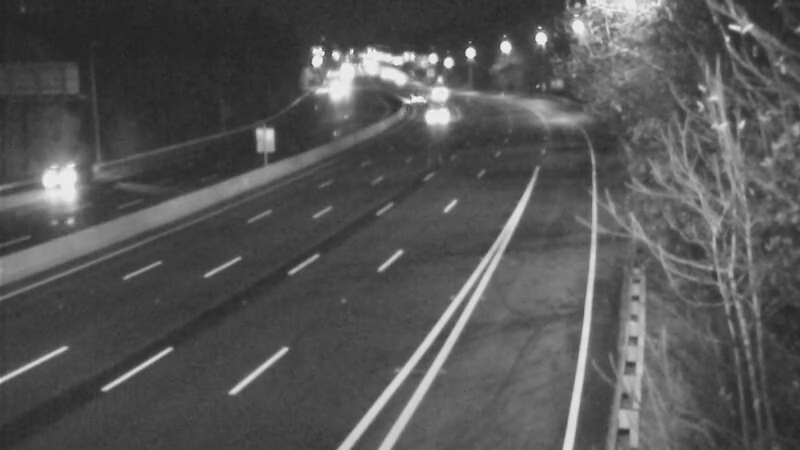vehicle: (18, 144, 98, 224), (417, 65, 467, 115), (384, 73, 434, 123), (415, 90, 465, 140)
